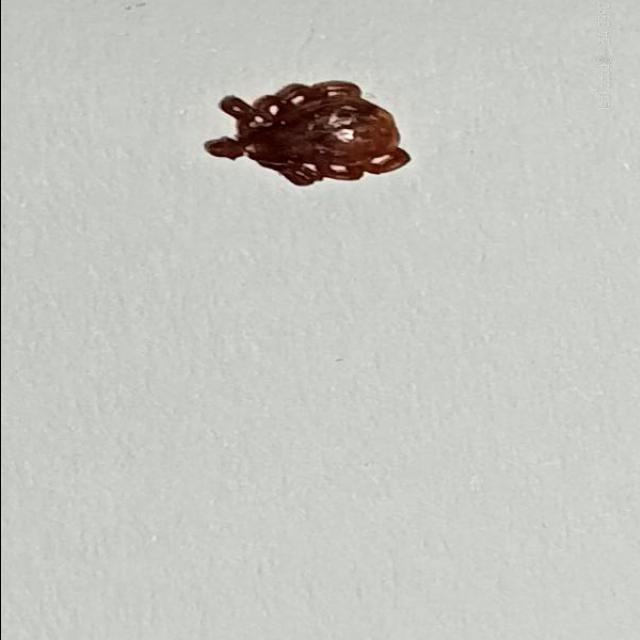Rhipicephalus Sanguineus-M: (204, 79, 412, 188)
